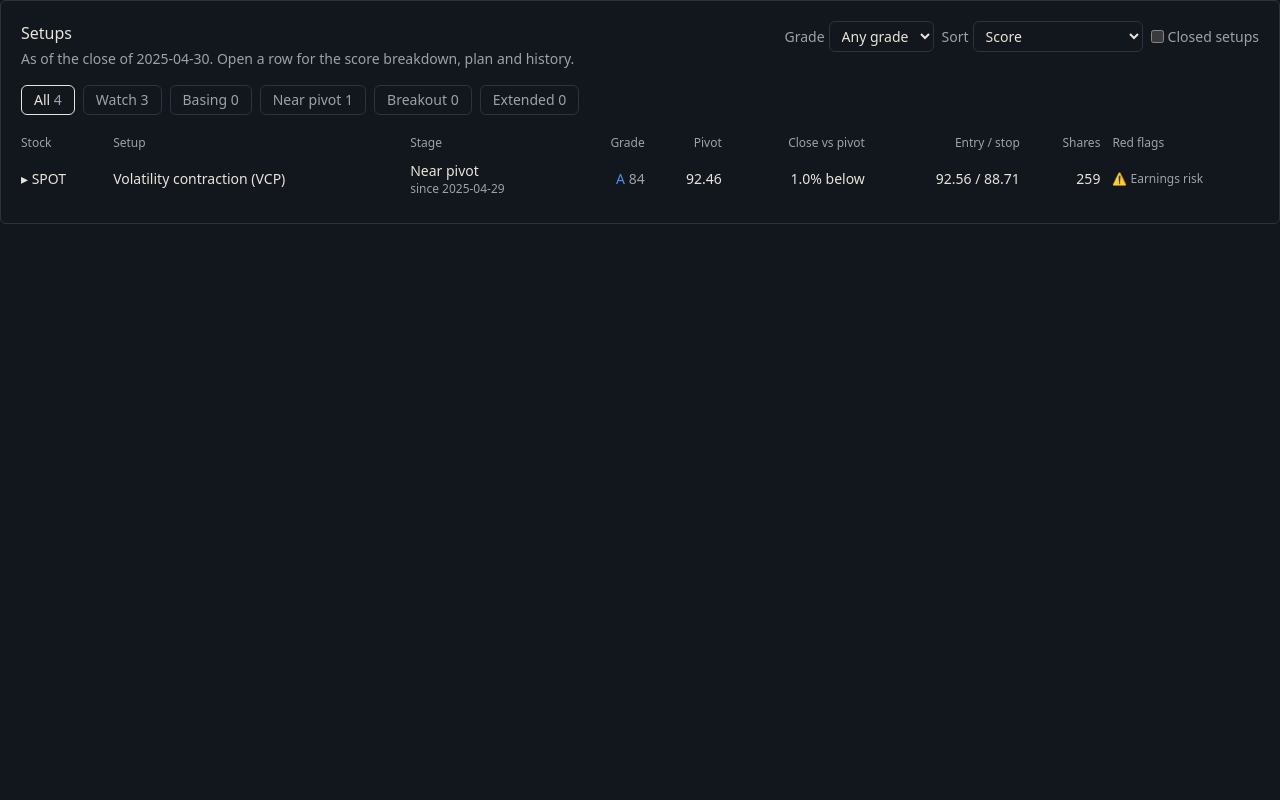
Scenario: SetupsBoard › lists setups with their plan and opens the breakdown
Expected: the row "SPOT" shows "Volatility contraction (VCP)", [113,169,285,188]
Expected: the row "SPOT" shows "Near pivot", [410,161,479,180]
Click the button "▸ SPOT" at {"x": 44, "y": 179}, box [21,169,66,189]
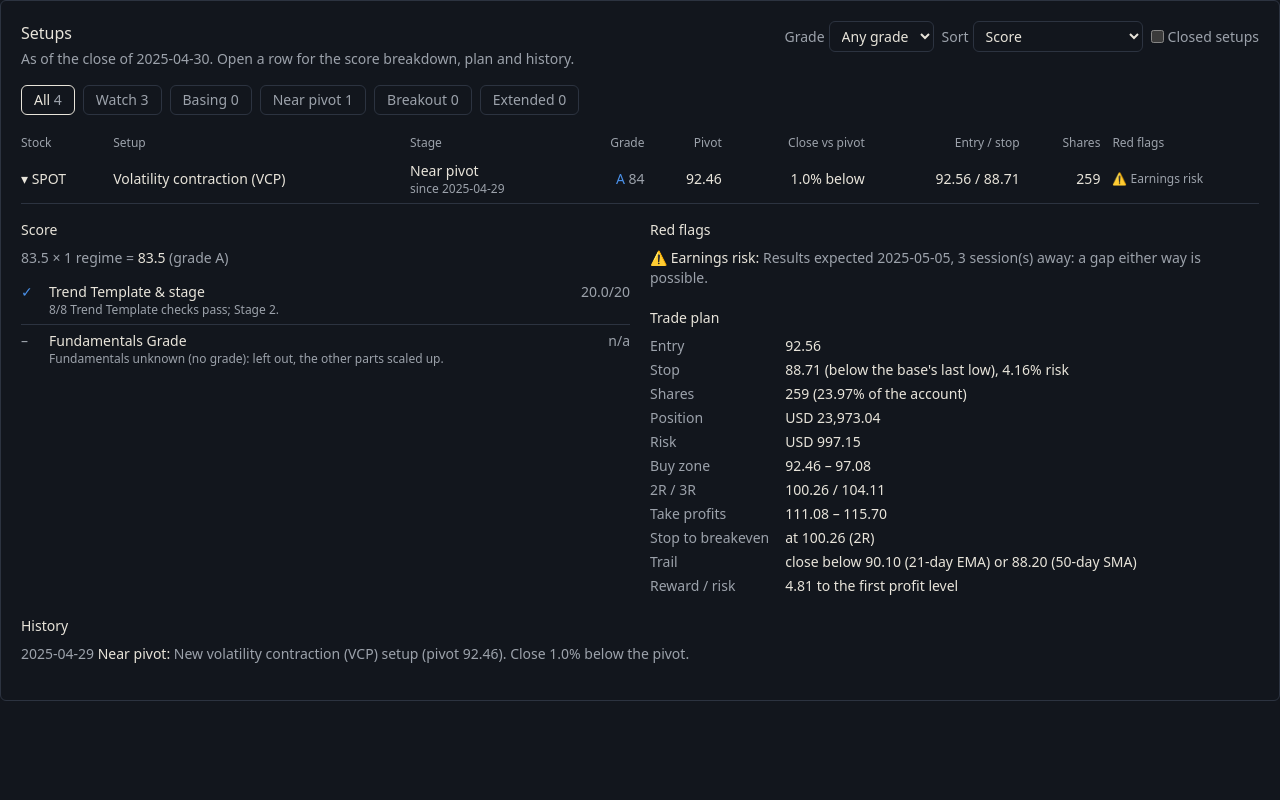
Expected: the text "Trend Template & stage" is shown, [49,282,205,301]
Expected: the element named "SPOT setup details" shows "259 (23.97% of the account)", [785,384,967,403]
Expected: the element named "SPOT setup details" shows "100.26 / 104.11", [785,480,885,499]
